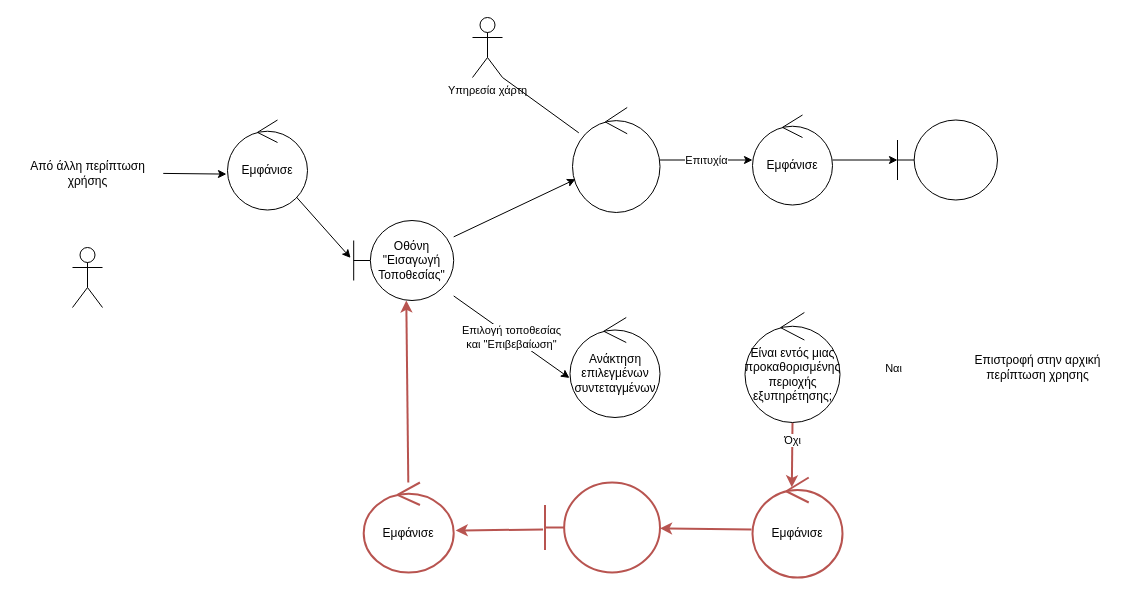
The diagram is 1129 pixels wide and 596 high, and some of its shapes have lost their labels. The centre of each missing label's shape, as x and y in pixels:
Επικοινωνία με υπηρεσία χάρτη: (x=616, y=159)
Μήνυμα σφάλματος: (x=602, y=527)
Πελάτης: (x=87, y=277)
Χάρτης: (x=947, y=159)
